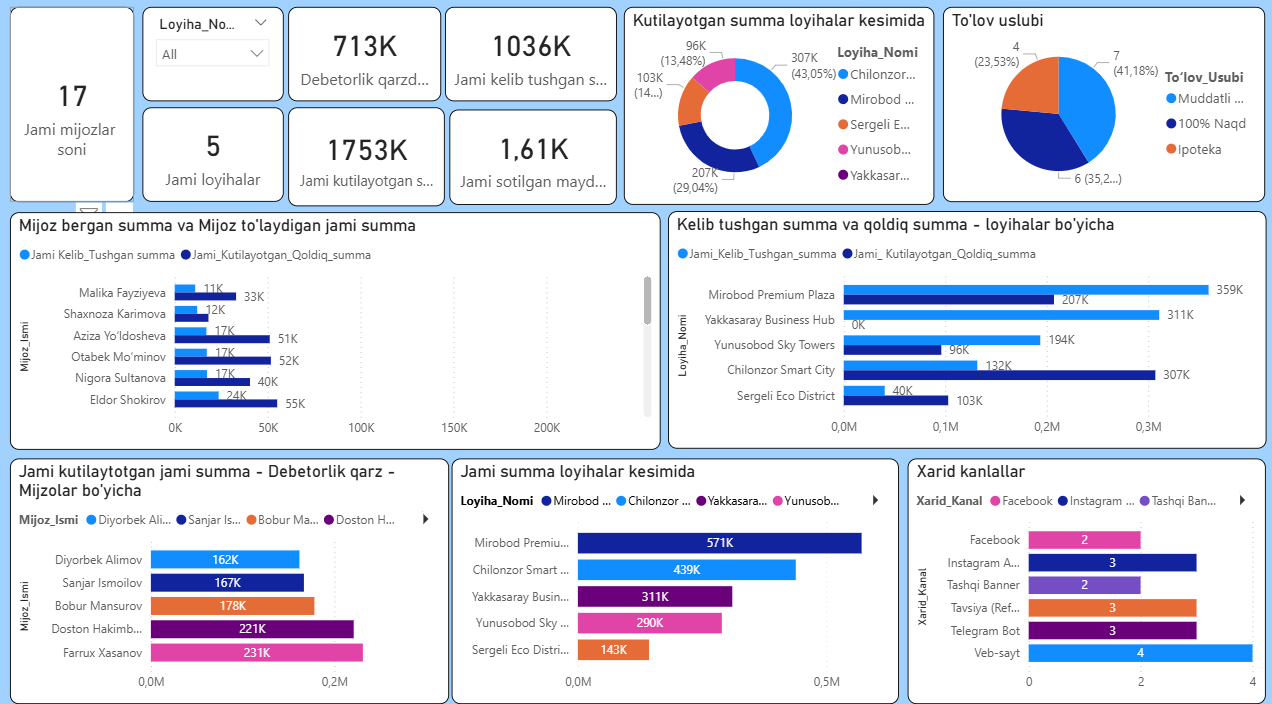

This screenshot's page, from the dashboard's own definition file:
{"tool":"powerbi","page":{"name":"Mijozlar","canvas":[1280,720],"ordinal":1},"visuals":[{"type":"card","fields":{"Values":["CountNonNull(Mijozlar_CRM.Mijoz_ID)"]},"box":[10,0,177.8,205.6],"z":0},{"type":"slicer","fields":{"Values":["Mijozlar_CRM.Mijoz_Ismi"]},"box":[197.1,121.3,141.5,83.9],"z":1000},{"type":"pieChart","title":"To''lov uslubi","fields":{"Category":["Shartnomalar_Savdo.Toʻlov_Usubi"],"Y":["CountNonNull(Shartnomalar_Savdo.Toʻlov_Usubi)"]},"box":[785.6,1.1,494.4,204.4],"z":2000},{"type":"clusteredBarChart","title":"Mijoz bergan summa va Mijoz to''laydigan jami summa","fields":{"Category":["Mijozlar_CRM.Mijoz_Ismi","Shartnomalar_Savdo.Loyiha_Nomi"],"Y":["Sum(Toʻlovlar_Tushumi.Kelib_Tushgan_USD)","Sum(Toʻlovlar_Tushumi.Kutilayotgan_Qoldiq_USD)"]},"box":[0,214.4,664.4,238.9],"z":3000},{"type":"barChart","title":"Jami kutilaytotgan jami summa - Debetorlik qarz - Mijzolar bo''yicha","fields":{"Y":["Sum(Shartnomalar_Savdo.Jami_Qiymati_USD)"],"Category":["Mijozlar_CRM.Mijoz_Ismi","Shartnomalar_Savdo.Loyiha_Nomi"],"Series":["Mijozlar_CRM.Mijoz_Ismi"]},"box":[0,463.3,664.4,256.7],"z":4000},{"type":"donutChart","title":"Kutilayotgan summa loyihalar kesimida","fields":{"Y":["Sum(Toʻlovlar_Tushumi.Kutilayotgan_Qoldiq_USD)"],"Category":["Shartnomalar_Savdo.Loyiha_Nomi"]},"box":[355.6,0,420,205.6],"z":5000},{"type":"slicer","fields":{"Values":["Shartnomalar_Savdo.Loyiha_Nomi"]},"box":[197.1,1,141.5,102.1],"z":6000},{"type":"clusteredBarChart","title":"Kelib tushgan summa va qoldiq summa - loyihalar bo''yicha","fields":{"Category":["Shartnomalar_Savdo.Loyiha_Nomi"],"Y":["Sum(Toʻlovlar_Tushumi.Kelib_Tushgan_USD)","Sum(Toʻlovlar_Tushumi.Kutilayotgan_Qoldiq_USD)"]},"box":[676.7,214.4,603.3,238.9],"z":7000},{"type":"barChart","title":"Jami summa loyihalar kesimida","fields":{"Category":["Shartnomalar_Savdo.Loyiha_Nomi"],"Y":["Sum(Shartnomalar_Savdo.Jami_Qiymati_USD)"],"Series":["Shartnomalar_Savdo.Loyiha_Nomi"]},"box":[676.7,463.3,603.3,256.7],"z":8000}]}

Visuals, with their boxes in screenshot pixels (x1, y1, x2, y2), scaled from the page's 1280x720 canvas onto the 1272x704 screenshot:
card - CountNonNull(Mijozlar_CRM.Mijoz_ID): (10, 0, 187, 201)
slicer - Mijozlar_CRM.Mijoz_Ismi: (196, 119, 336, 201)
"To''lov uslubi" pieChart: (781, 1, 1271, 201)
"Mijoz bergan summa va Mijoz to''laydigan jami summa" clusteredBarChart: (0, 210, 660, 443)
"Jami kutilaytotgan jami summa - Debetorlik qarz - Mijzolar bo''yicha" barChart: (0, 453, 660, 703)
"Kutilayotgan summa loyihalar kesimida" donutChart: (353, 0, 771, 201)
slicer - Shartnomalar_Savdo.Loyiha_Nomi: (196, 1, 336, 101)
"Kelib tushgan summa va qoldiq summa - loyihalar bo''yicha" clusteredBarChart: (672, 210, 1271, 443)
"Jami summa loyihalar kesimida" barChart: (672, 453, 1271, 703)
